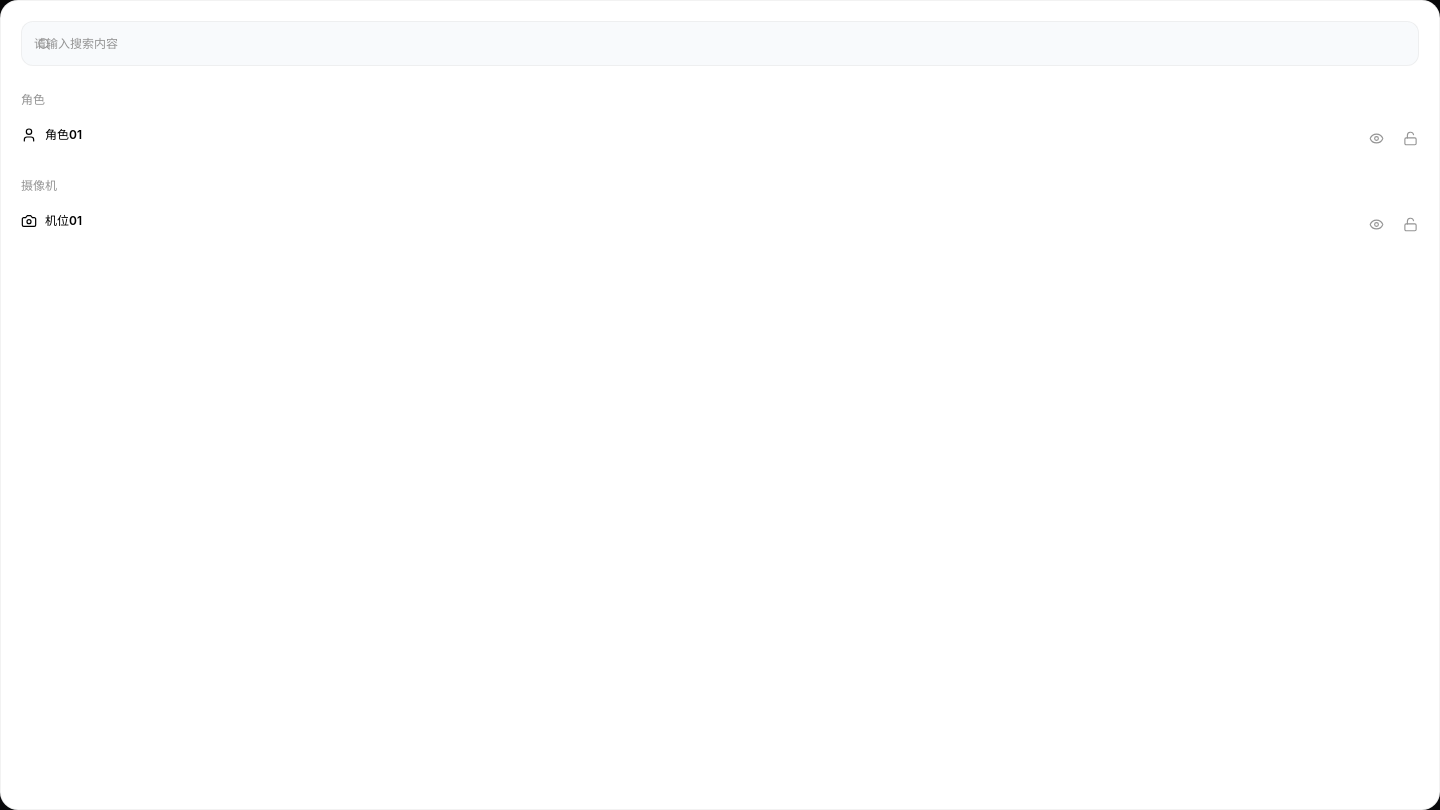
it: shows a centered empty search state when no objects match
Type "不存在" into the field named "搜索场景内容" at point(720, 44), box [21,21,1419,66]
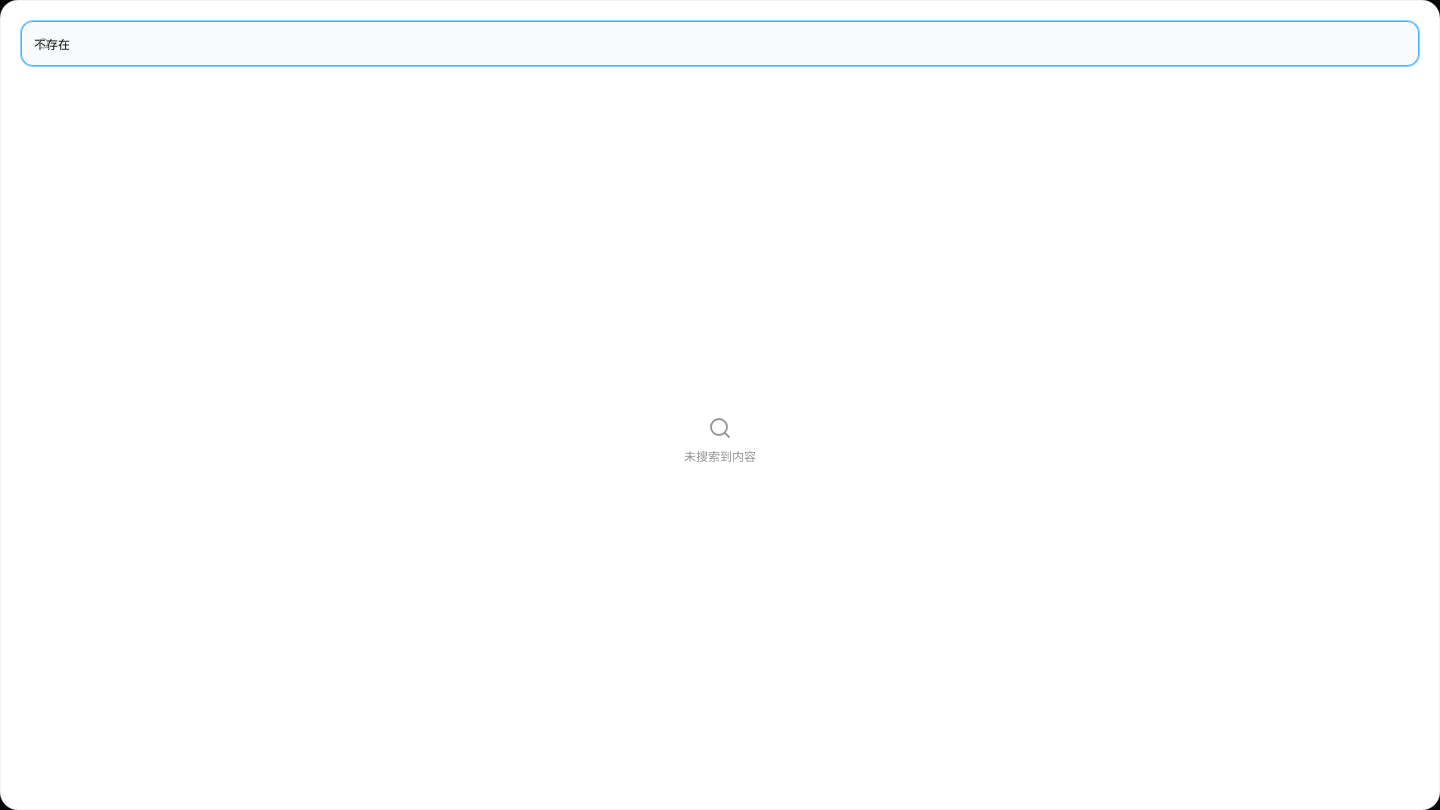
expect the 2nd icon with class "lucide-search" is shown: met, box [708,416,732,440]
expect the element "角色分组" is gone: met
